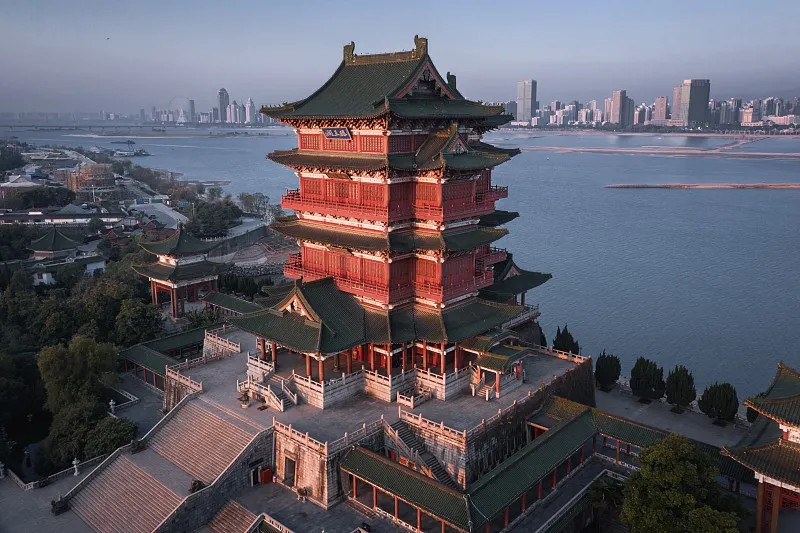Teng: (228, 34, 552, 390)
